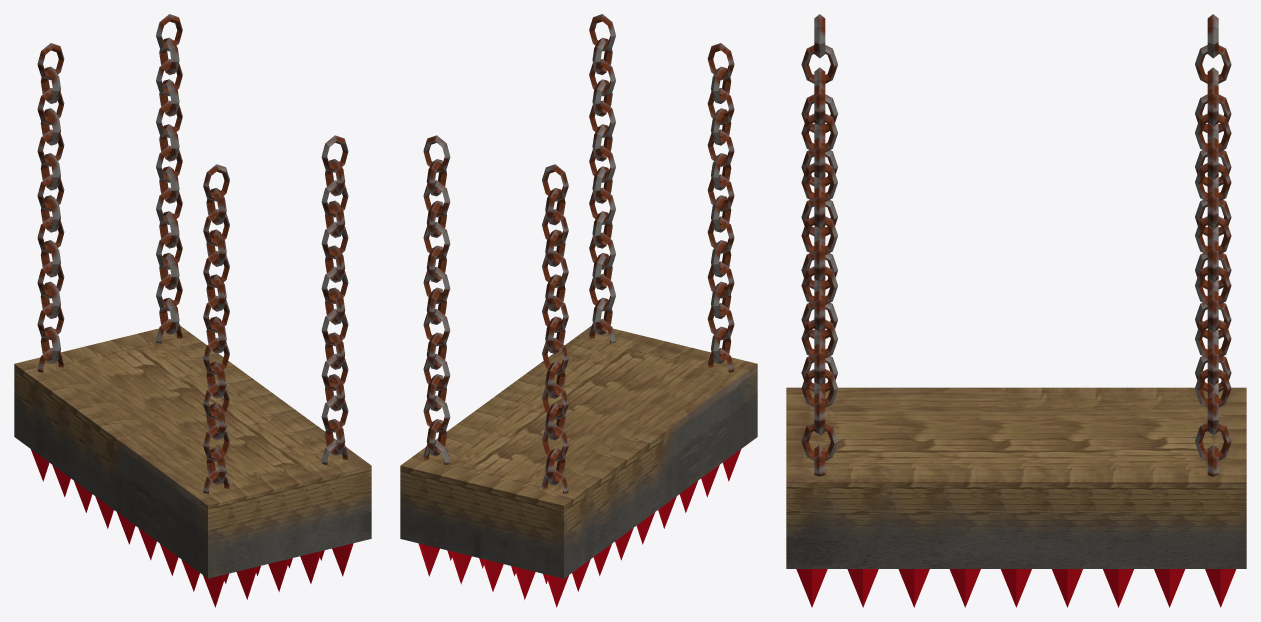
The model's file is Chain Trap.fbx.
3 views of the same model, side by side, from view 1: azimuth 30°, elevation 25°; view 2: azimuth 150°, elevation 25°; view 3: azimuth 270°, elevation 25° (orthographic). The views are drawn at different scales.
Parts seen in each view (by area): view 1: Cube, Torus.031, Cone; view 2: Cube, Torus.031, Cone; view 3: Cube, Torus.031, Cone.
Boxes of the visible parts, bbox=[...] form: Cube: bbox=[14, 325, 371, 578]; Torus.031: bbox=[37, 14, 348, 493]; Cone: bbox=[31, 449, 353, 607]; Cube: bbox=[400, 325, 757, 578]; Torus.031: bbox=[423, 14, 734, 493]; Cone: bbox=[418, 449, 741, 607]; Cube: bbox=[786, 387, 1246, 568]; Torus.031: bbox=[801, 14, 1231, 476]; Cone: bbox=[796, 569, 1236, 607].
Bounding box in the file's own units: 1028 × 2642 × 2108.
